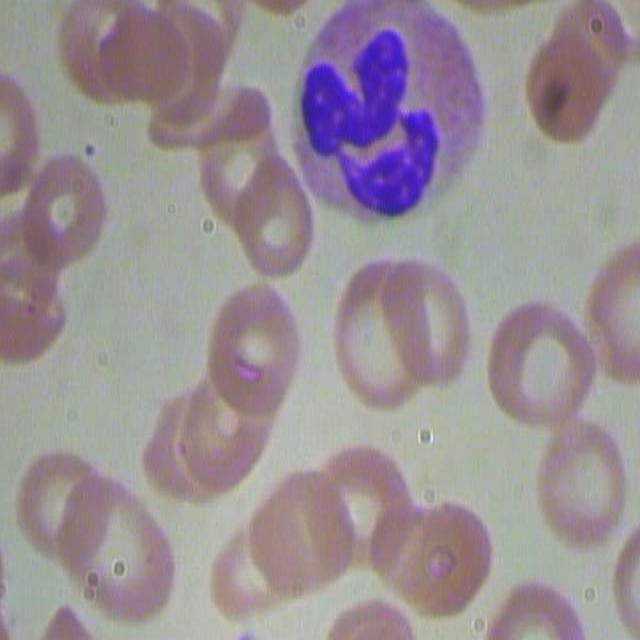RBC: (334, 245, 479, 422), (215, 468, 356, 617), (99, 0, 235, 145), (143, 364, 270, 504), (69, 480, 180, 626), (483, 297, 597, 438), (521, 0, 629, 137), (531, 416, 635, 553), (380, 498, 492, 618), (205, 276, 305, 409), (229, 160, 319, 280), (194, 81, 270, 223), (54, 1, 149, 114), (18, 150, 108, 268), (14, 447, 101, 564), (0, 215, 64, 367), (586, 235, 640, 382), (484, 575, 590, 640), (0, 65, 41, 216), (320, 603, 426, 640), (611, 514, 640, 638)
WBC: (294, 0, 461, 235)
